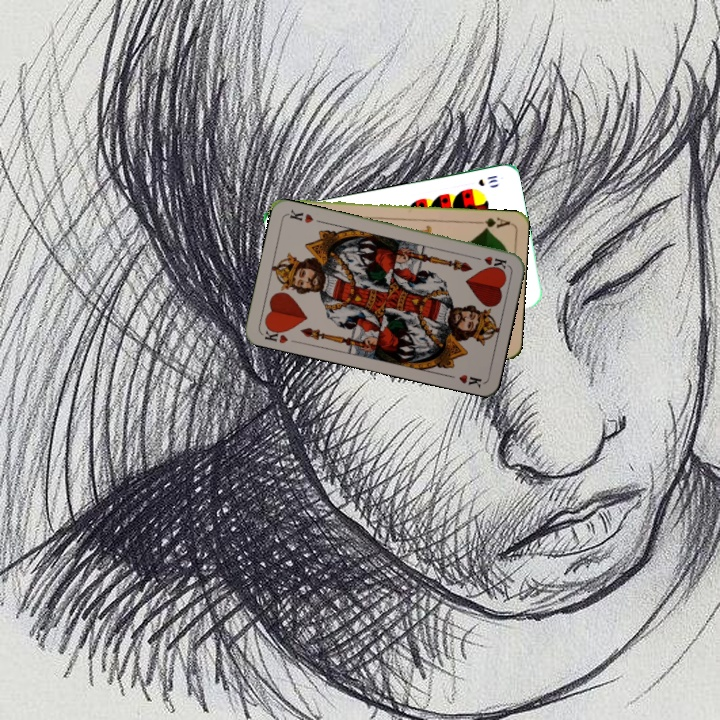GA: (472, 213, 513, 232)
HK: (469, 252, 509, 272), (259, 322, 290, 346)
S10: (474, 171, 500, 189)
